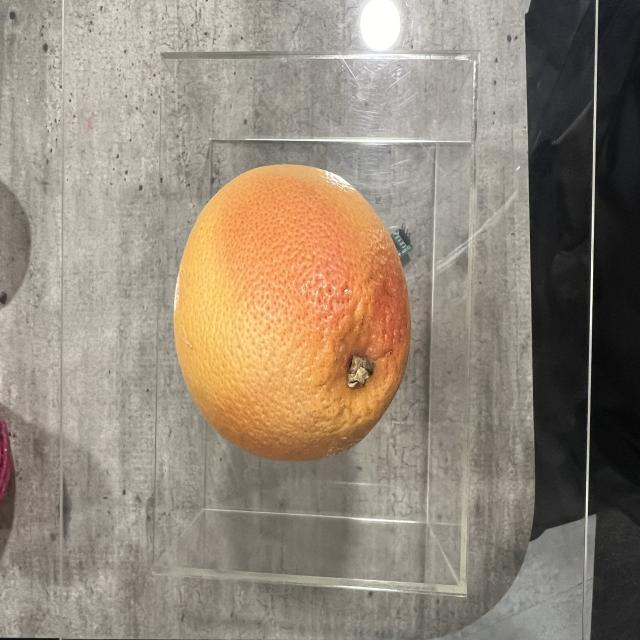grapefruit: (172, 162, 413, 466)
